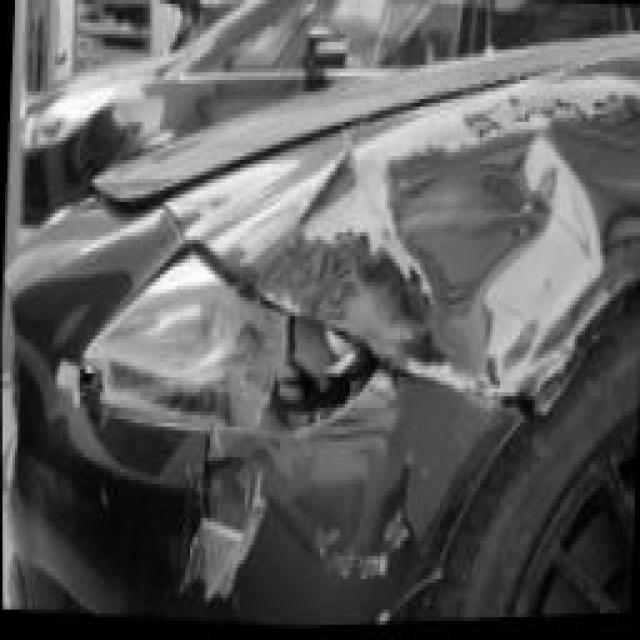Bumper: (122, 408, 431, 636)
Fender: (230, 76, 640, 376)
Light: (122, 267, 341, 434)
